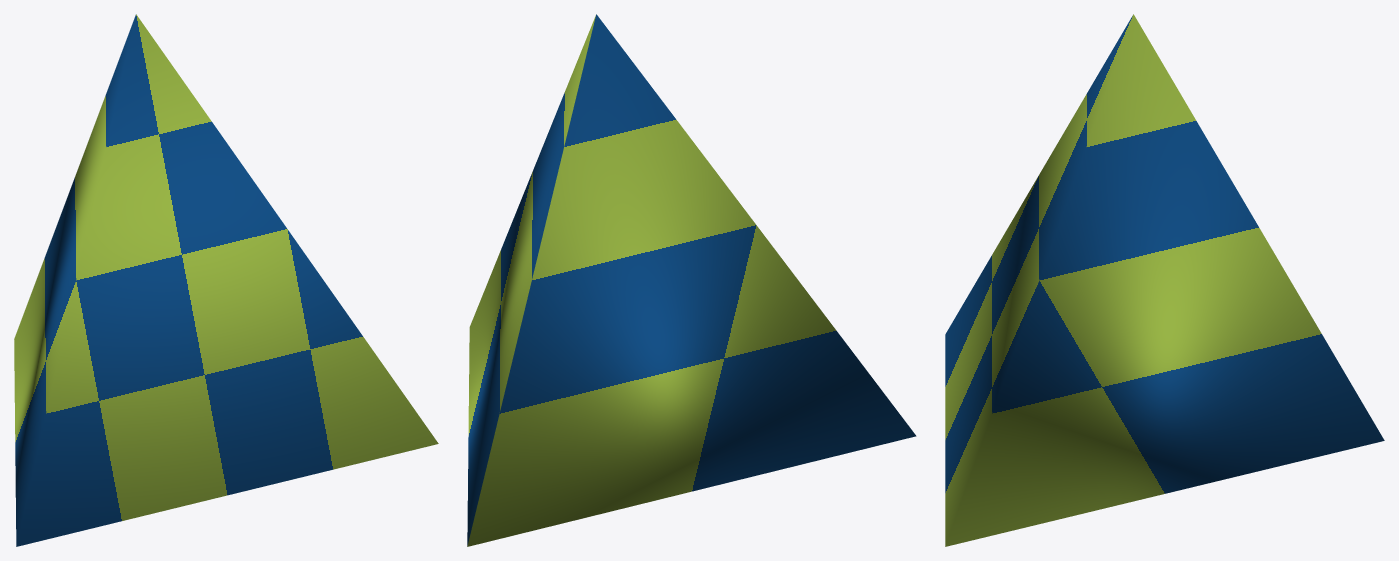
The model's file is textured-spinner.glb.
3 renders of one model, left to right at view 1: azimuth 30°, elevation 25°; view 2: azimuth 150°, elevation 25°; view 3: azimuth 270°, elevation 25°, orthographic. The views are drawn at different scales.
Parts seen in each view (by area): view 1: AnimatedSpinner; view 2: AnimatedSpinner; view 3: AnimatedSpinner.
Part boxes in pixels (left/top/right/bottom): AnimatedSpinner: left=14, top=14, right=438, bottom=546; AnimatedSpinner: left=467, top=14, right=916, bottom=546; AnimatedSpinner: left=945, top=14, right=1384, bottom=546.
Bounding box in the file's own units: 1.6 × 1.5 × 1.4.
1 material, 1 textured.
